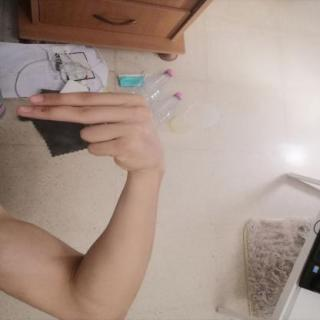AYN: (9, 86, 179, 179)
